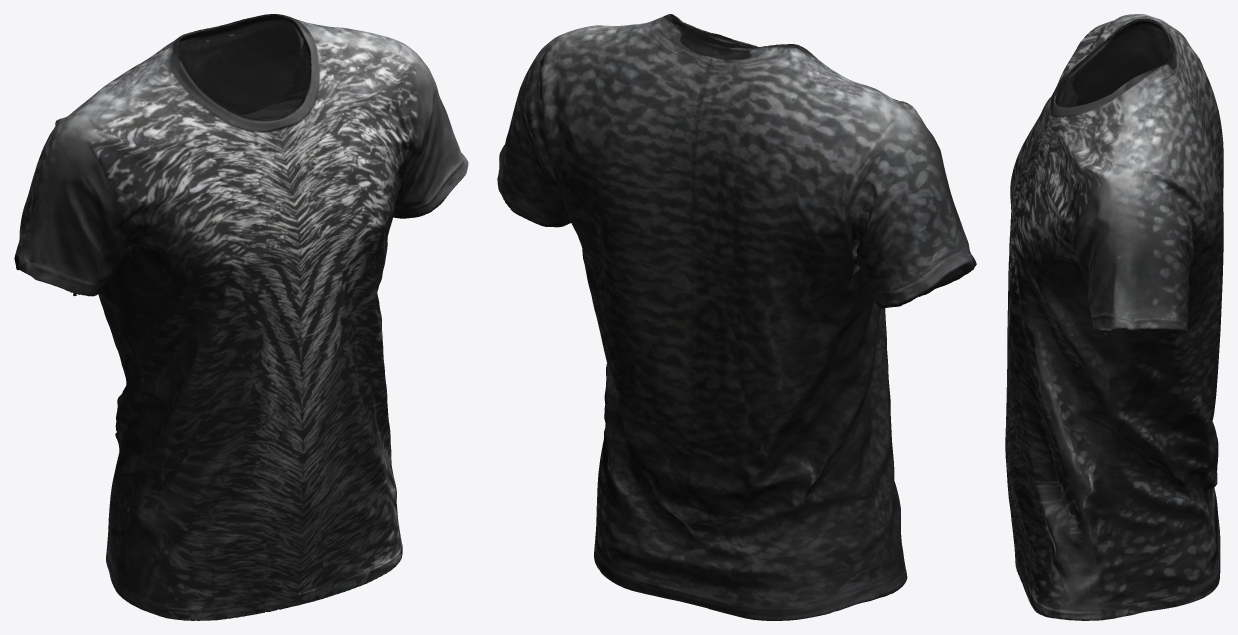
Rendered from shirt11.glb.
The picture shows the model from 3 angles, left to right: view 1: azimuth 30°, elevation 25°; view 2: azimuth 150°, elevation 25°; view 3: azimuth 270°, elevation 25°; orthographic projection. The views are drawn at different scales.
Bounding box in the file's own units: 1.77 × 2 × 0.7571.
1 material, 1 textured.
